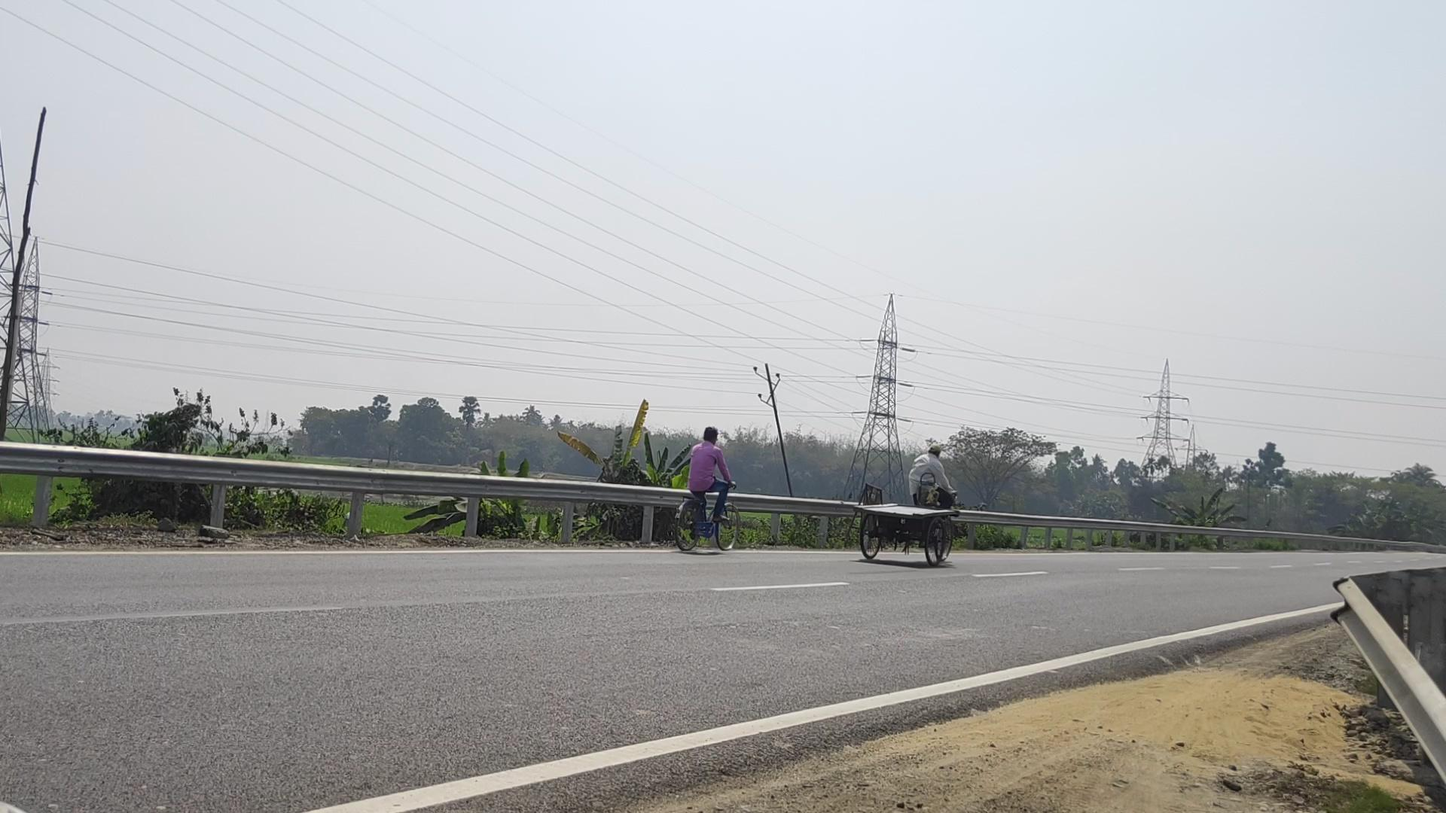bike: (675, 427, 740, 551)
